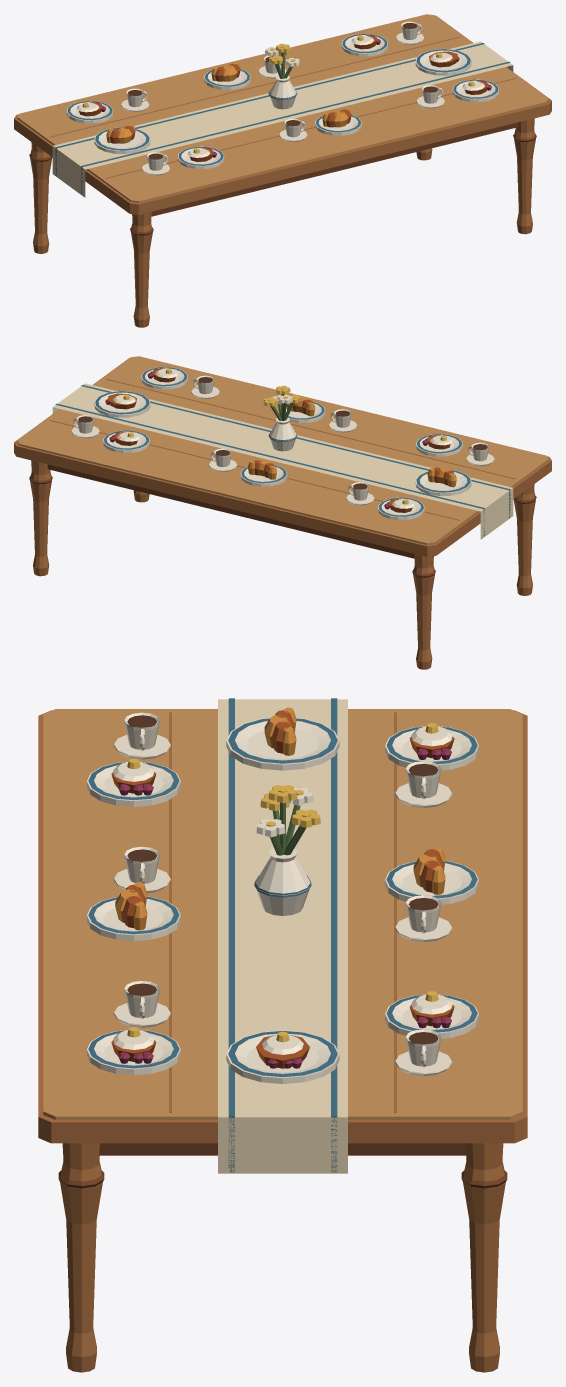
The model's file is dining-shared.glb.
3 views of the same model, one above another, from view 1: azimuth 30°, elevation 25°; view 2: azimuth 150°, elevation 25°; view 3: azimuth 270°, elevation 25° (orthographic). The views are drawn at different scales.
Parts seen in each view (by area): view 1: dining-shared; view 2: dining-shared; view 3: dining-shared.
Boxes of the visible parts, left/top/right/bottom form: dining-shared: left=14, top=14, right=551, bottom=327; dining-shared: left=14, top=356, right=551, bottom=669; dining-shared: left=38, top=698, right=527, bottom=1372.
Bounding box in the file's own units: 2.59 × 1.13 × 1.28.
